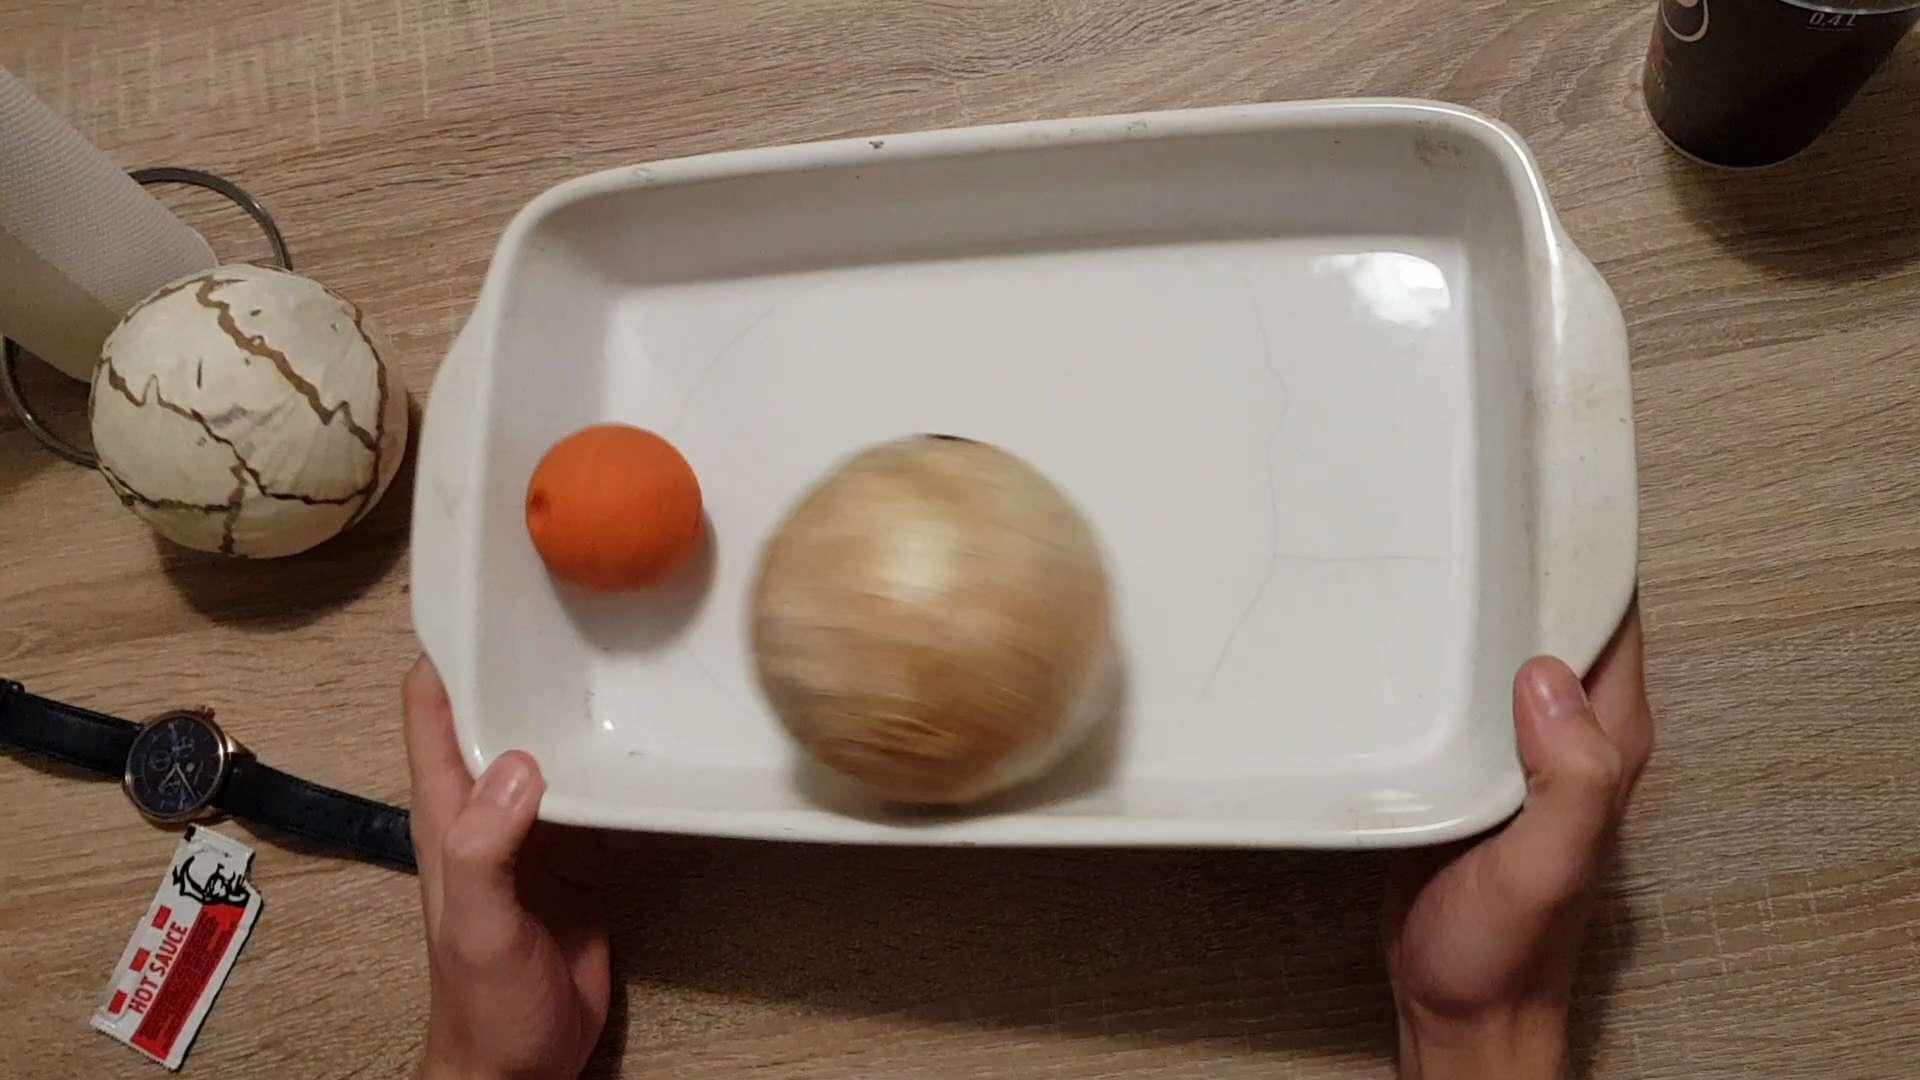Sphere: (746, 433, 1106, 812), (524, 425, 703, 588)
sphere: (74, 256, 400, 566)
